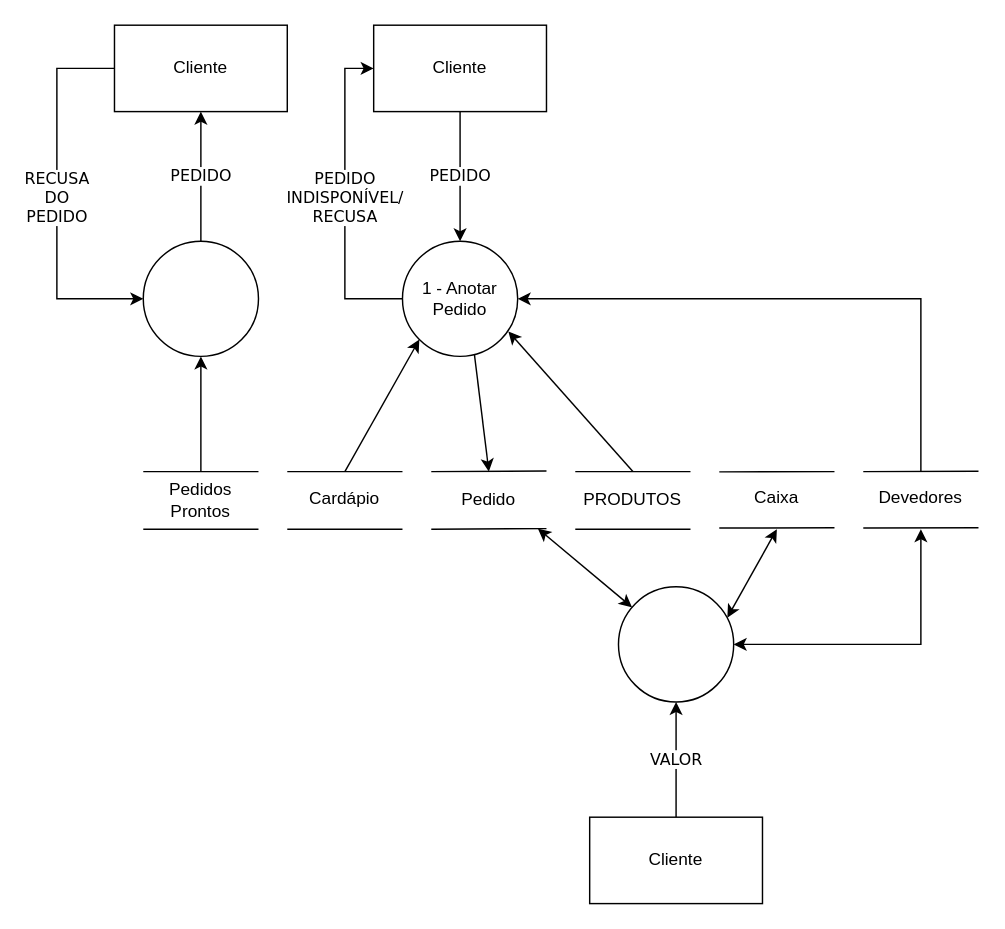
The diagram is 1005 pixels wide and 929 high, and some of its shapes have lost their labels. The centre of each missing label's shape, as x and y in pixels:
"3 - Entregar pedido" goes at point (200, 298).
"5 - Receber pagamento" goes at point (675, 643).
